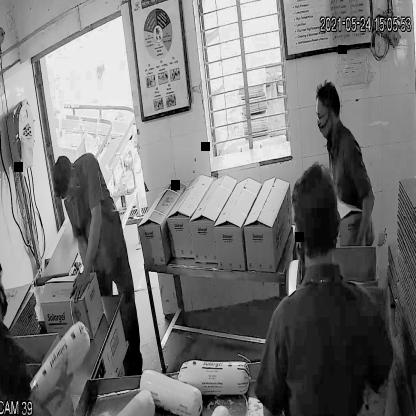goggles: (312, 104, 336, 128)
